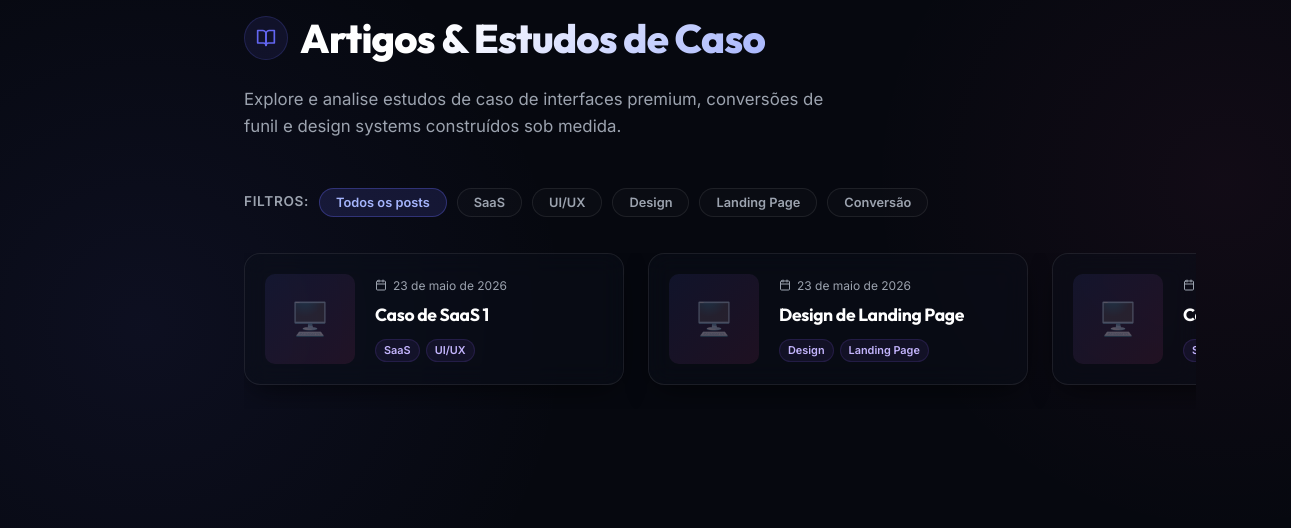
Test: Home Page Tag Filtering › filters posts list when tag button is clicked
Expected: the heading "Caso de SaaS 1" is shown, top-left (375, 303), bottom-right (489, 326)
// Clicar no filtro 'SaaS'
What coordinates should you click on to do the following:
click the button with test id "filter-tag-SaaS"
I would click on:
 (489, 202)
Its box is top-left (457, 188), bottom-right (522, 217).
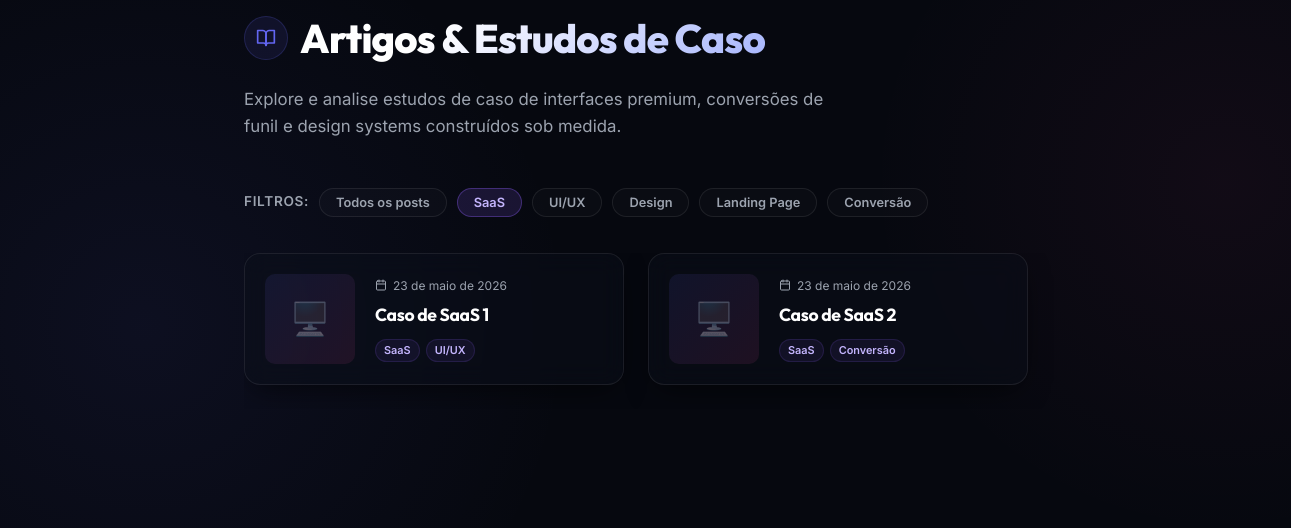
Expected: the heading "Caso de SaaS 1" is shown, top-left (375, 303), bottom-right (489, 326)
Expected: the link "Design de Landing Page" is gone
// Clicar em 'Design'
What coordinates should you click on to do the following:
click the button with test id "filter-tag-Design"
I would click on:
 (651, 202)
Its box is top-left (612, 188), bottom-right (690, 217).
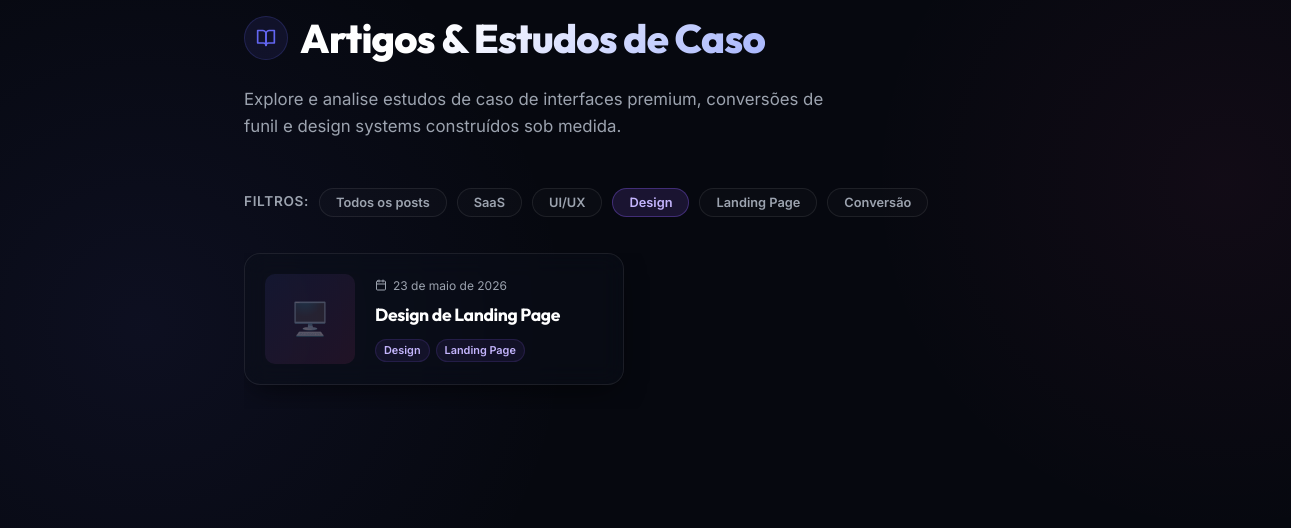
Expected: the link "Caso de SaaS 1" is gone
Expected: the link "Caso de SaaS 2" is gone
Expected: the heading "Design de Landing Page" is shown, top-left (375, 303), bottom-right (560, 326)
